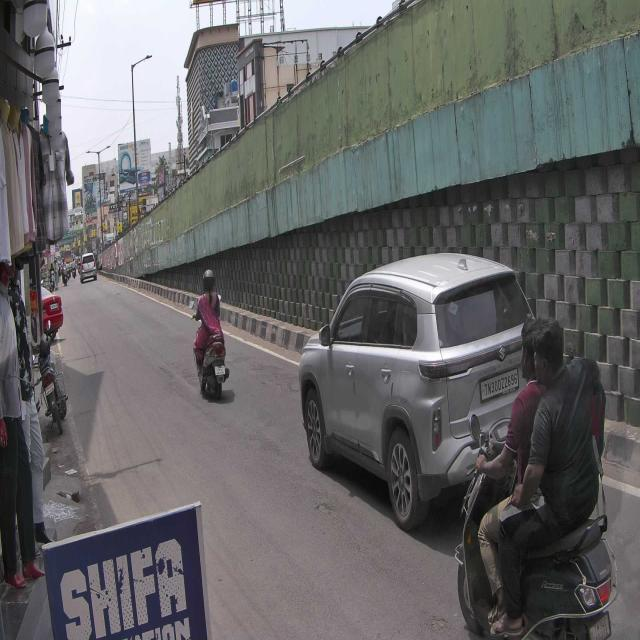double_rider: (450, 308, 619, 640)
